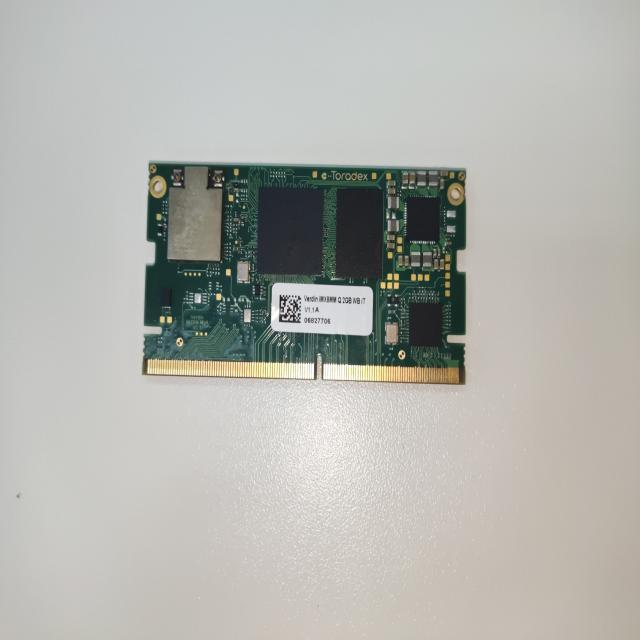som: (135, 141, 477, 404)
